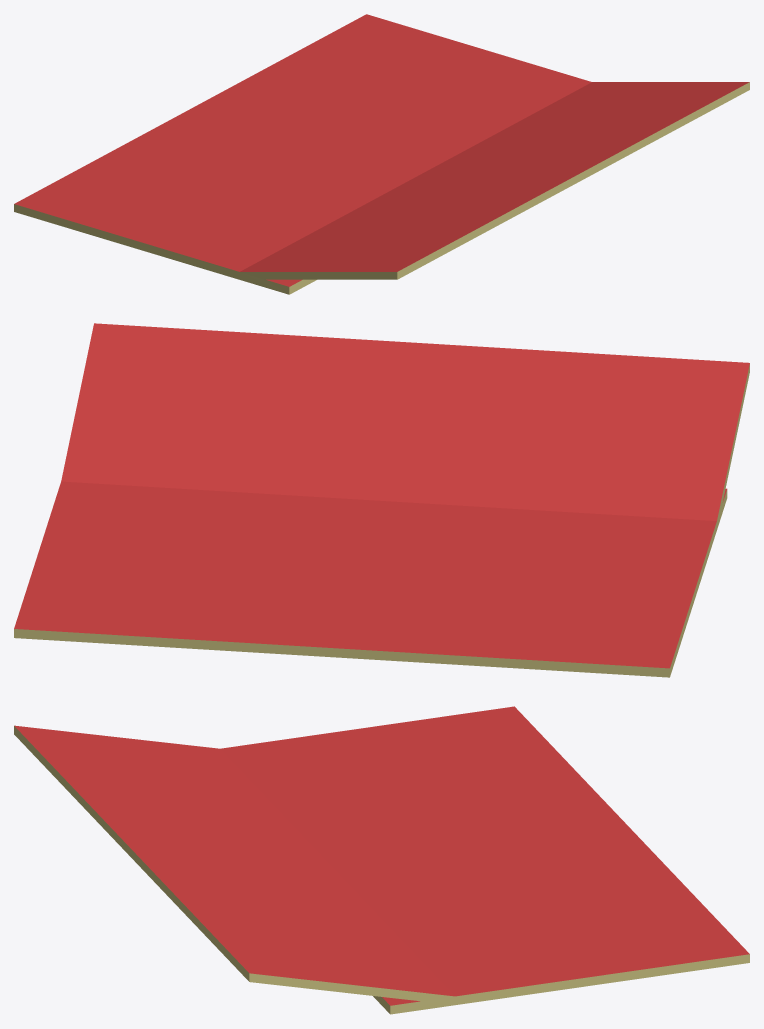
3 renders of one model, top to bottom at view 1: azimuth 30°, elevation 25°; view 2: azimuth 150°, elevation 25°; view 3: azimuth 270°, elevation 25°, orthographic. The views are drawn at different scales.
Size of the model in its own units: 8.16 by 7.63 by 0.852.
